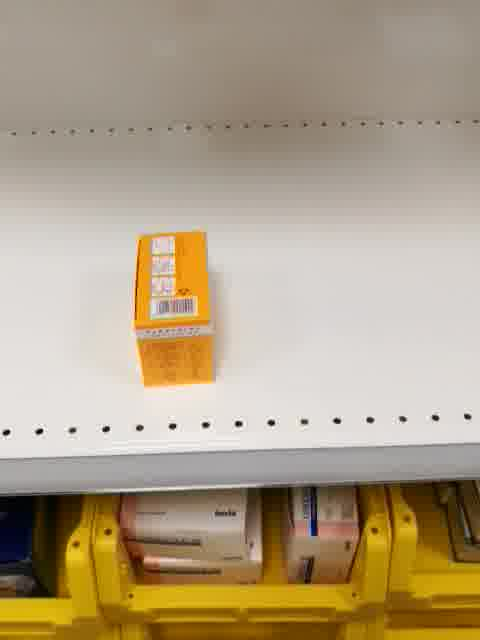jasminetea: (133, 231, 218, 387)
